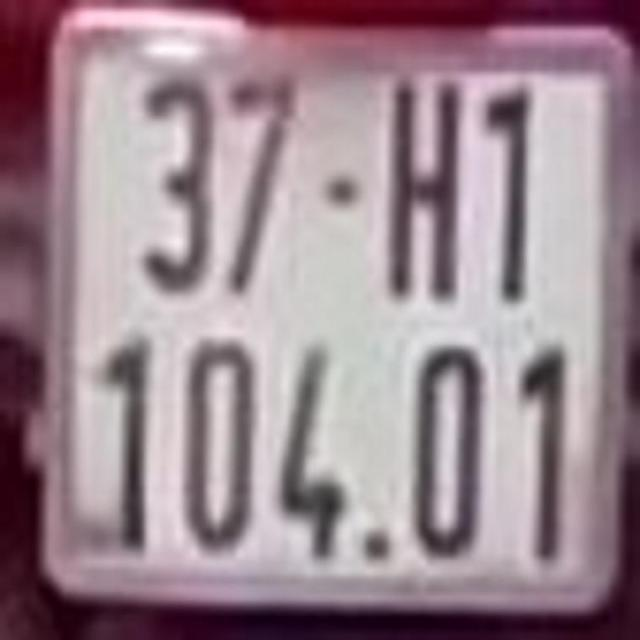0: (175, 332, 260, 552), (406, 339, 487, 556)
1: (510, 342, 574, 562), (480, 74, 540, 304), (94, 326, 154, 550)
3: (130, 73, 219, 298)
4: (272, 340, 352, 562)
7: (224, 80, 302, 290)
H: (384, 67, 468, 300)
